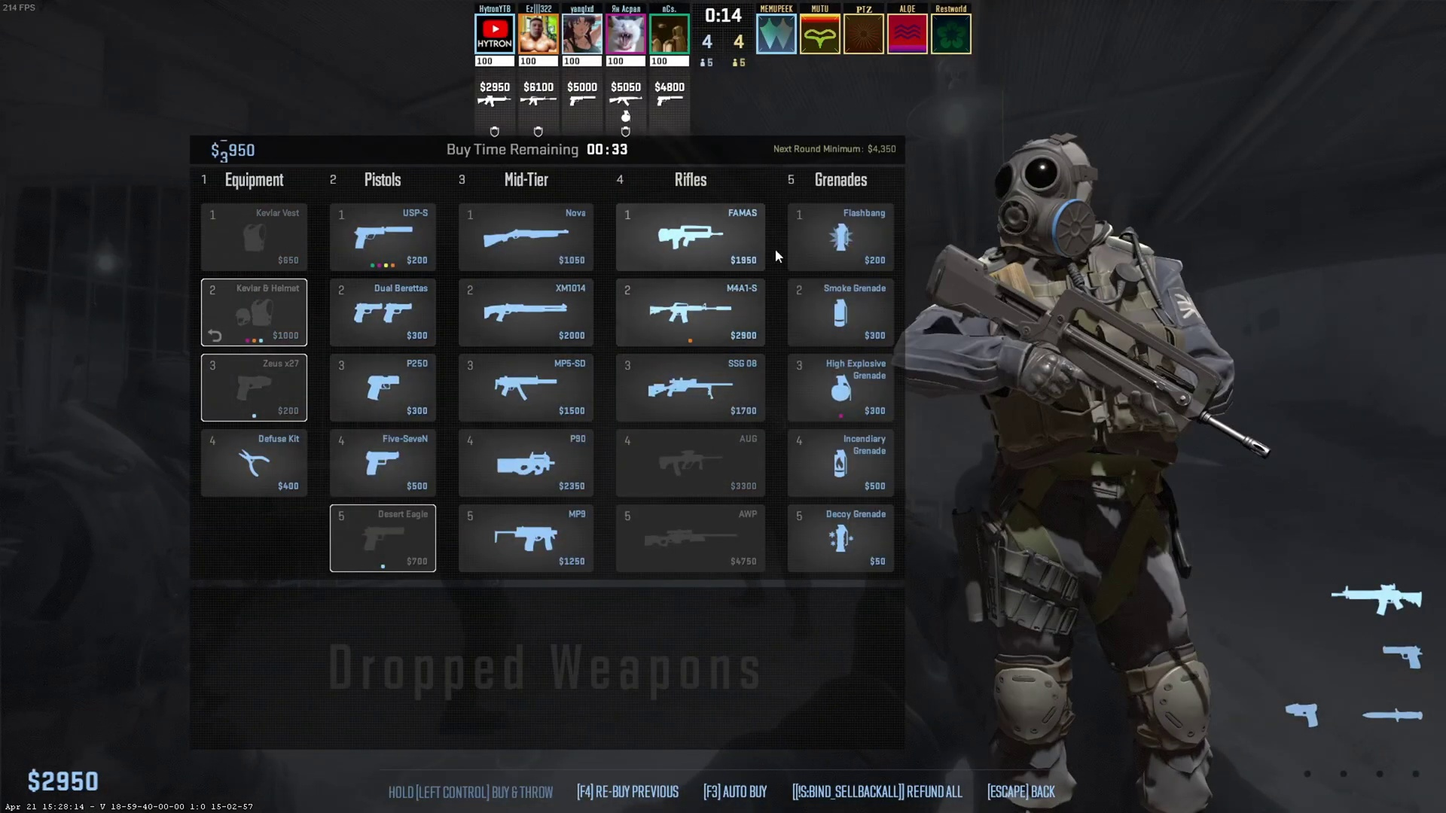CT: (968, 137, 1212, 811)
